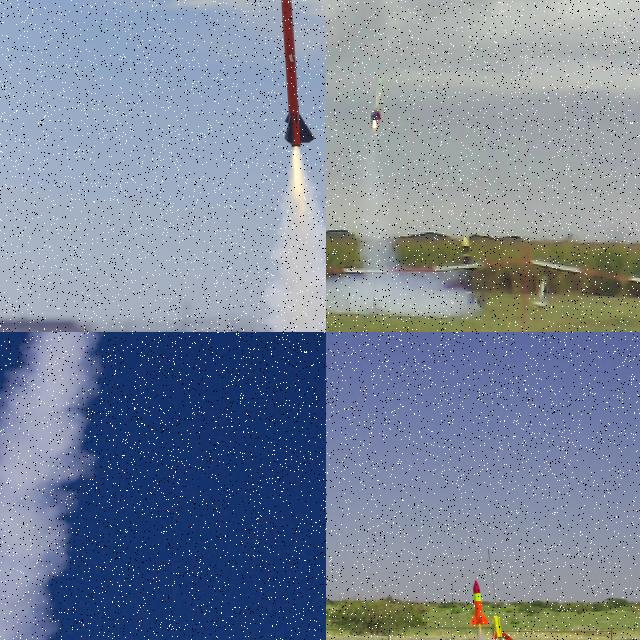Rocket: (280, 0, 316, 148), (460, 232, 488, 308), (470, 580, 490, 626), (368, 74, 385, 120), (531, 275, 553, 308), (490, 615, 516, 640)
